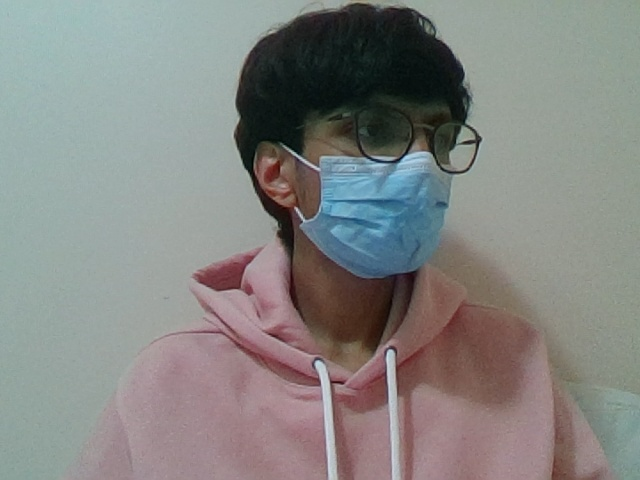Face_mask_found: (259, 137, 508, 286)
